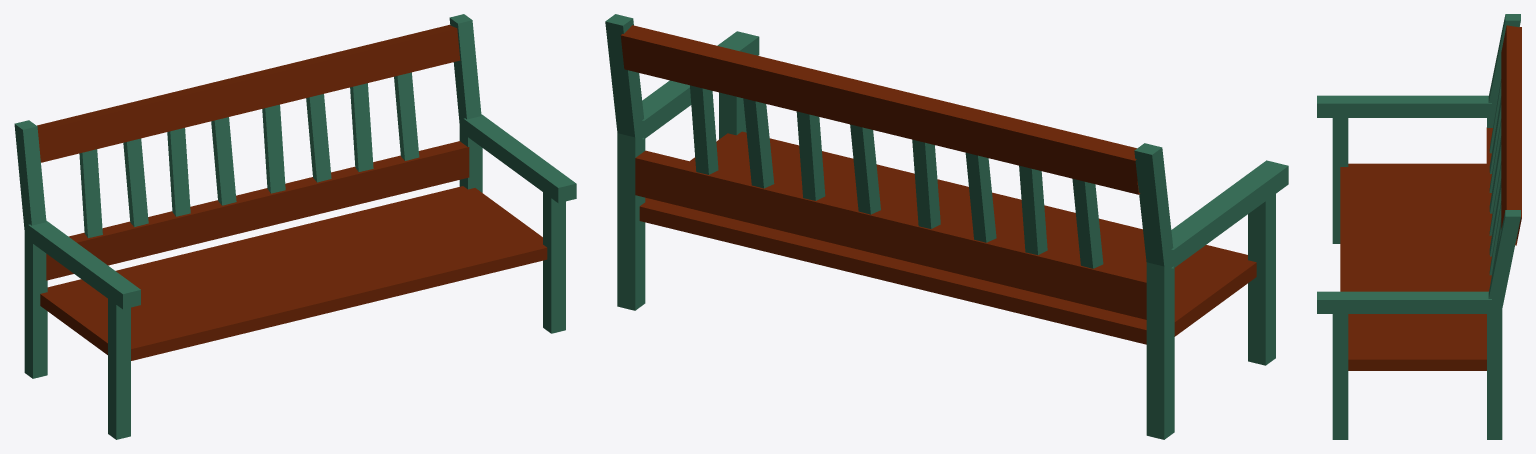
The model's file is bench_1.FBX.
The picture shows the model from 3 angles, left to right: view 1: azimuth 30°, elevation 25°; view 2: azimuth 150°, elevation 25°; view 3: azimuth 270°, elevation 25°; orthographic projection. The views are drawn at different scales.
Parts seen in each view (by area): view 1: bench_1; view 2: bench_1; view 3: bench_1.
Boxes of the visible parts, x1,y1,x2,y2 form: bench_1: [14, 14, 576, 439]; bench_1: [605, 14, 1288, 439]; bench_1: [1317, 14, 1521, 439].
Size of the model in its own units: 2.73 by 1.39 by 1.16.
Materials: 1 (1 with a texture image).
